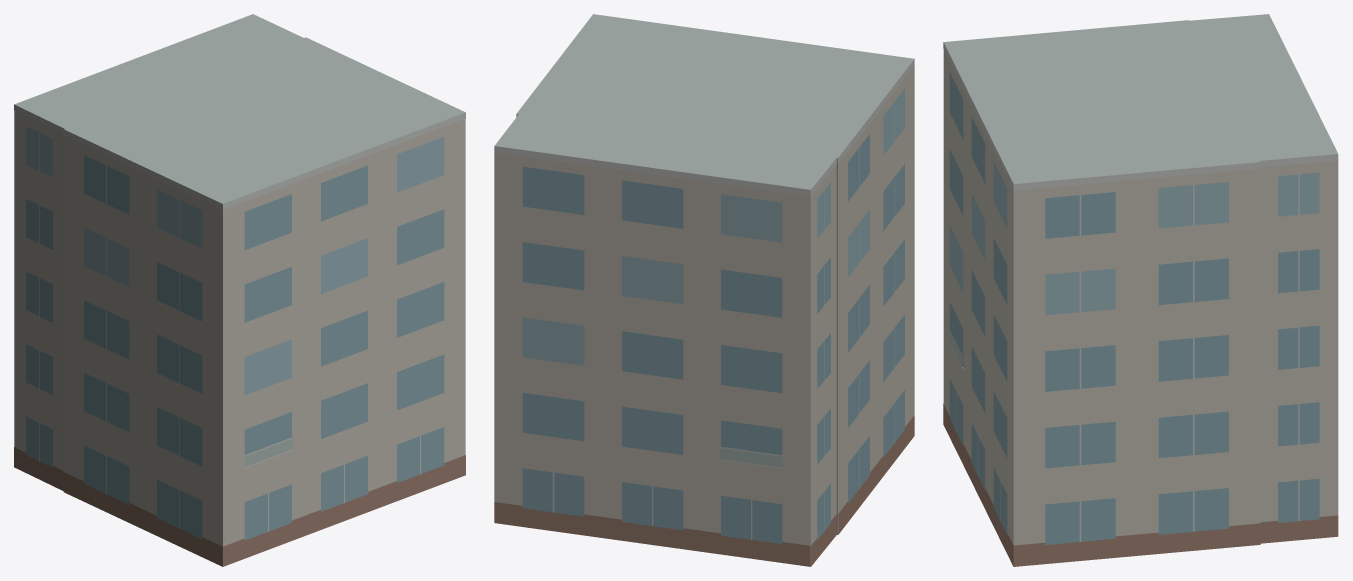
File: survey-upis-32946903.glb
3 views of the same model, side by side, from view 1: azimuth 30°, elevation 25°; view 2: azimuth 150°, elevation 25°; view 3: azimuth 270°, elevation 25° (orthographic). The views are drawn at different scales.
Parts seen in each view (by area): view 1: survey-upis-32946903.tmp; view 2: survey-upis-32946903.tmp; view 3: survey-upis-32946903.tmp.
Part boxes in pixels (x1=…): survey-upis-32946903.tmp: x1=14, y1=14, x2=465, y2=566; survey-upis-32946903.tmp: x1=494, y1=14, x2=914, y2=566; survey-upis-32946903.tmp: x1=943, y1=14, x2=1338, y2=566.
Bounding box in the file's own units: 13.64 × 14.3 × 13.38.
